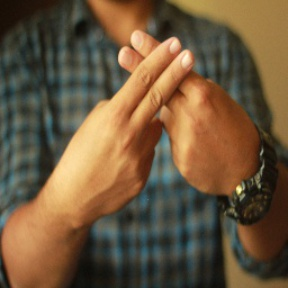F: (91, 27, 231, 153)
